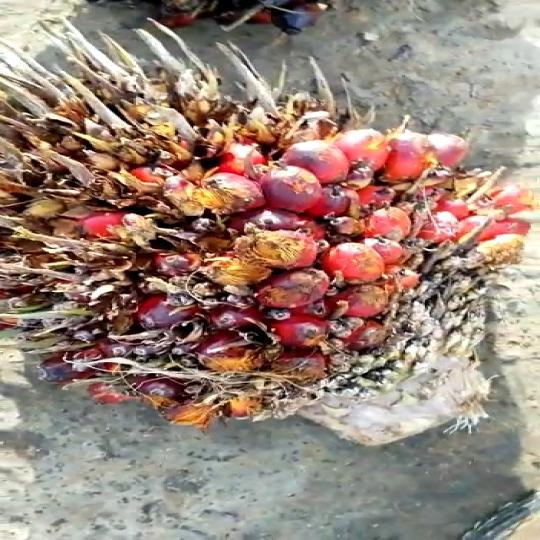terlalu masak: (0, 31, 527, 478)
